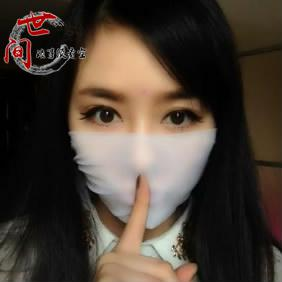OK: (72, 80, 206, 214)
